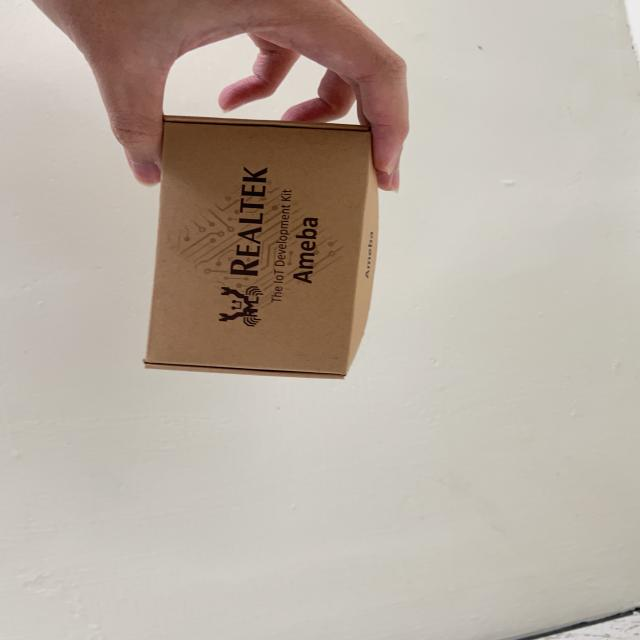box: (142, 105, 394, 384)
